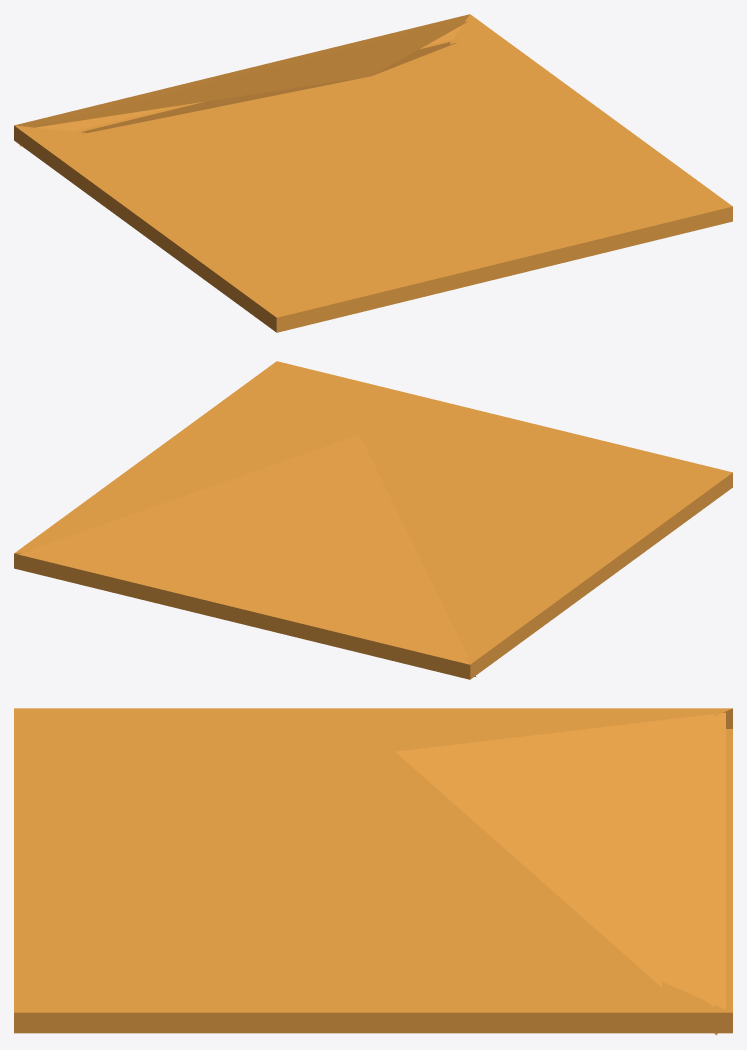
Rendered from message.FBX.
3 renders of one model, top to bottom at view 1: azimuth 30°, elevation 25°; view 2: azimuth 150°, elevation 25°; view 3: azimuth 270°, elevation 25°, orthographic. The views are drawn at different scales.
Visible parts, largest first — view 1: Box001, Box002; view 2: Box001, Box002; view 3: Box001, Box002.
Part boxes in pixels (bbox=[...]): Box001: bbox=[14, 14, 732, 332]; Box002: bbox=[19, 21, 468, 146]; Box001: bbox=[14, 361, 732, 679]; Box002: bbox=[18, 435, 475, 676]; Box001: bbox=[14, 708, 732, 1033]; Box002: bbox=[395, 712, 725, 1035].
Size of the model in its own units: 397 by 396 by 82.62.
1 material, 1 textured.
